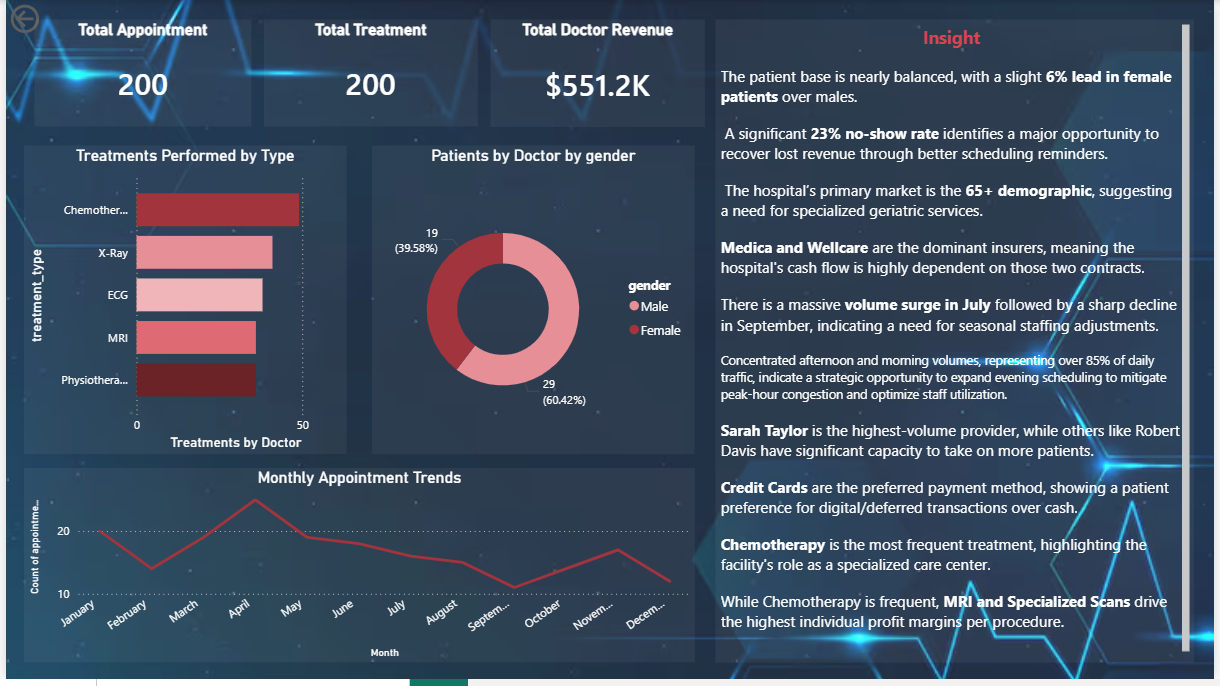

Layout of this report page (visuals, bound fields, positions):
{"tool":"powerbi","page":{"name":"Doctor Performance & Insights","canvas":[1280,720],"ordinal":1},"visuals":[{"type":"actionButton","box":[0,0,100,40],"z":0},{"type":"cardVisual","title":"Total Appointment","fields":{"Data":["appointments.Total Appointments"]},"box":[30,20,230,113.3],"z":1000},{"type":"cardVisual","title":"Total Doctor Revenue","fields":{"Data":["doctors.Doctor Revenue"]},"box":[513.8,21.2,227.5,113.8],"z":2000},{"type":"cardVisual","title":"Total Treatment","fields":{"Data":["Calendar.Total Treatments by Doctor"]},"box":[273.5,20,226.7,113.3],"z":3000},{"type":"barChart","title":"Treatments Performed by Type","fields":{"Category":["treatments.treatment_type"],"Y":["Calendar.Treatments by Doctor"]},"box":[19.1,155,342,327.1],"z":4000},{"type":"donutChart","fields":{"Category":["patients.gender"],"Y":["Calendar.Patients by Doctor"]},"box":[388.7,155,342,327.1],"z":6000},{"type":"lineChart","title":"Monthly Appointment Trends","fields":{"Y":["CountNonNull(appointments.appointment_id)"],"Category":["Calendar.Date.Variation.Date Hierarchy.Month"]},"box":[19.1,497,711.5,206],"z":6001},{"type":"textbox","box":[751.9,21.2,507.6,681.8],"z":6002}]}

Visuals, with their boxes in screenshot pixels (x1, y1, x2, y2), scaled from the page's 1280x720 canvas onto the 1220x686 screenshot:
actionButton: (0,0,95,38)
"Total Appointment" cardVisual: (29,19,248,127)
"Total Doctor Revenue" cardVisual: (490,20,707,129)
"Total Treatment" cardVisual: (261,19,477,127)
"Treatments Performed by Type" barChart: (18,148,344,459)
donutChart - patients.gender x Calendar.Patients by Doctor: (370,148,696,459)
"Monthly Appointment Trends" lineChart: (18,474,696,670)
textbox: (717,20,1200,670)
